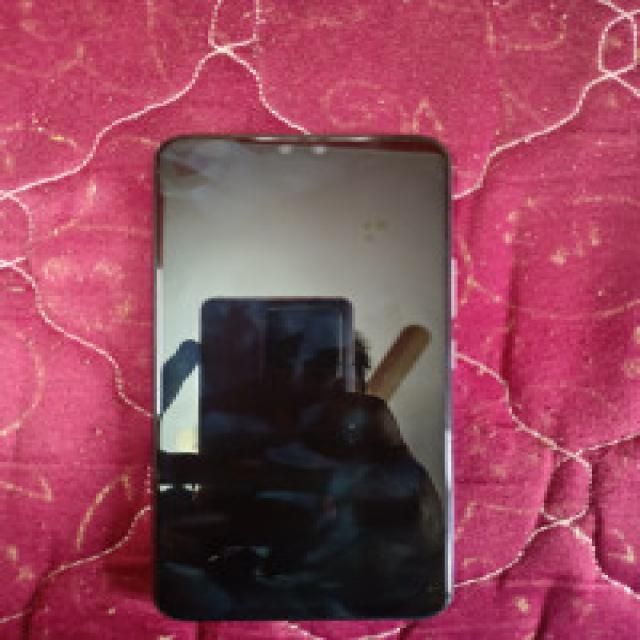mobile phone: (147, 130, 458, 621)
